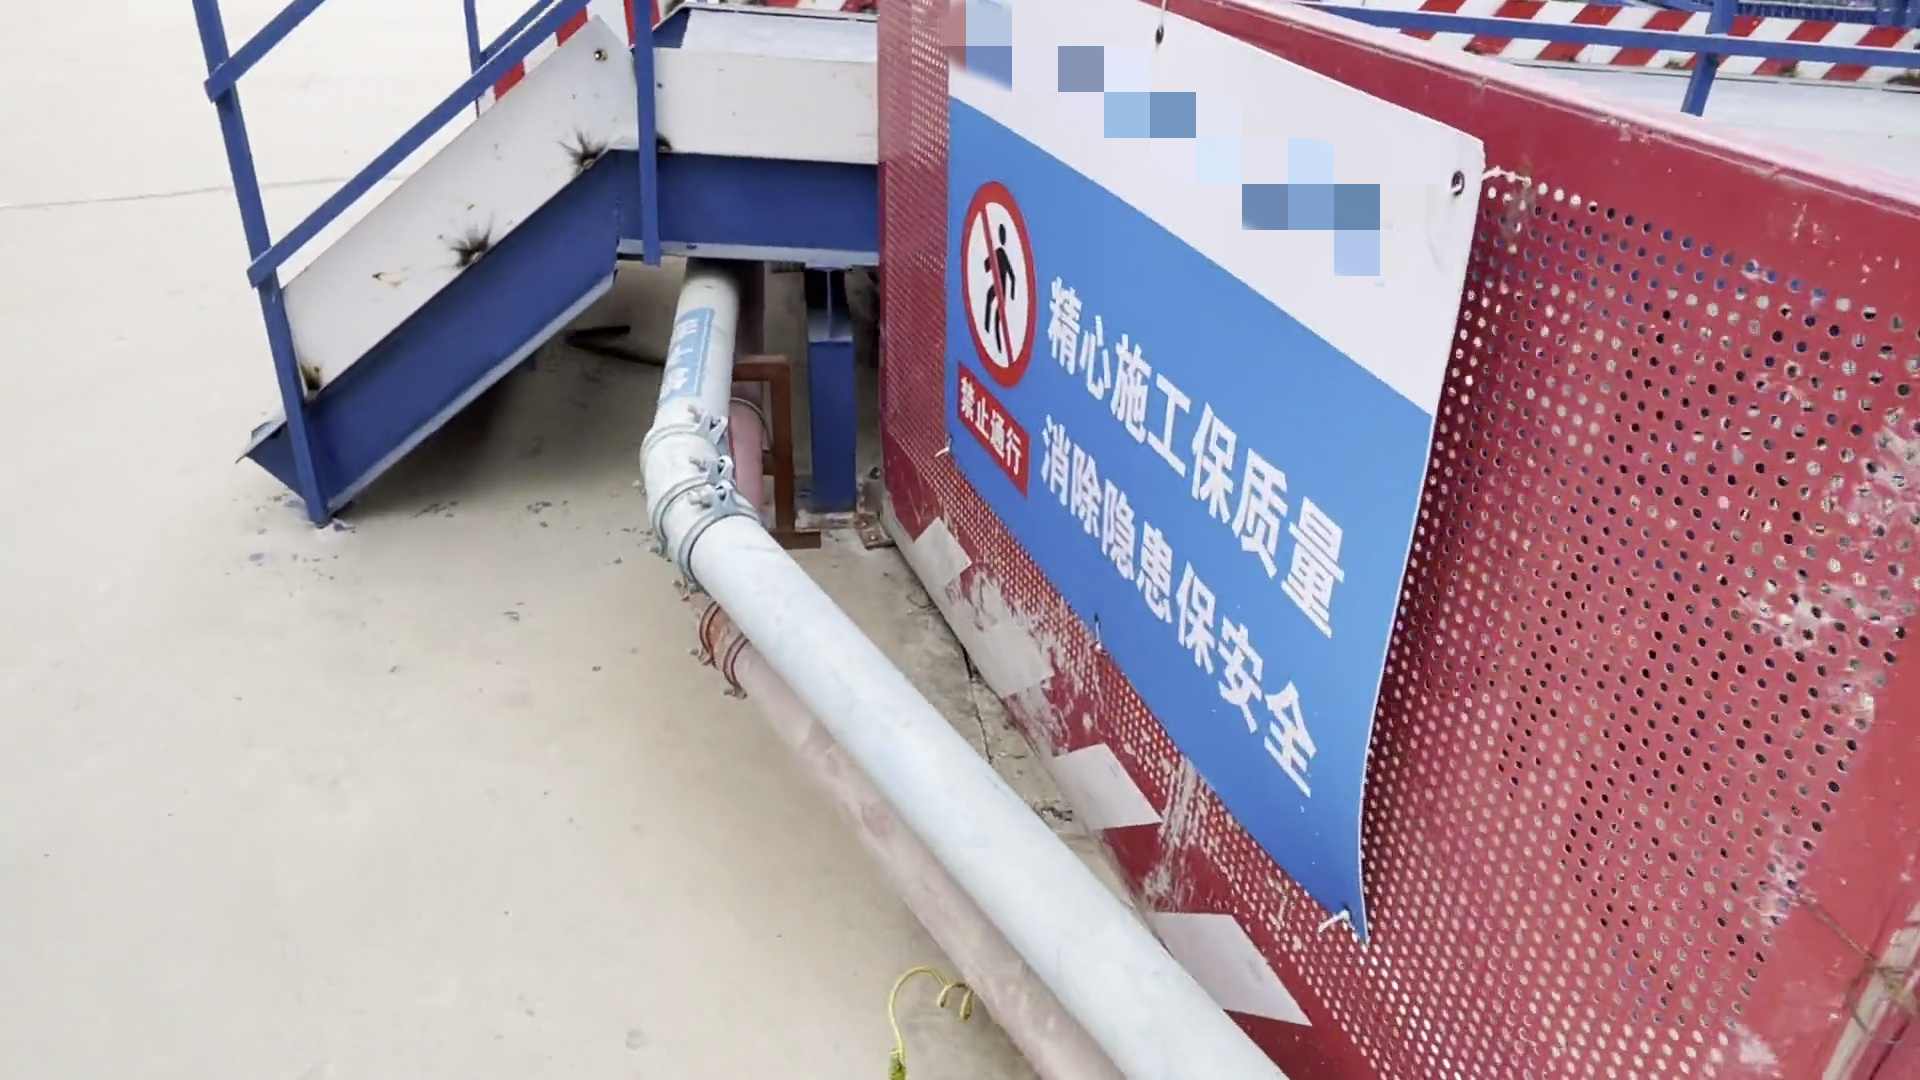slogan: (936, 119, 1393, 827)
